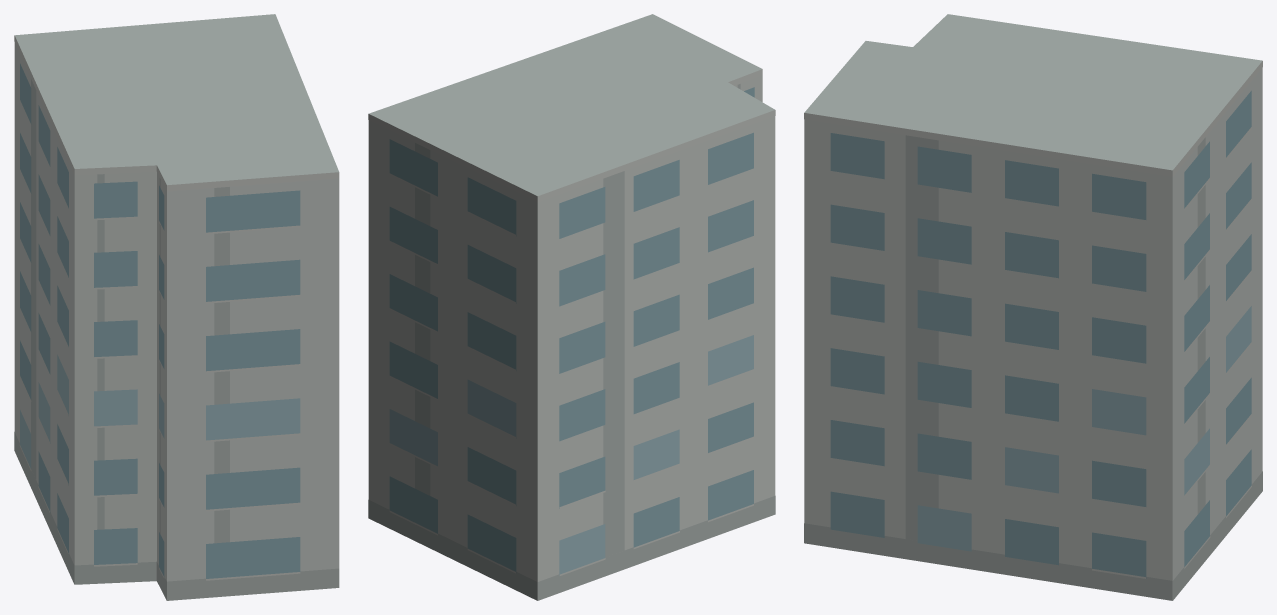
File: survey-upis-32893671.glb
3 views of the same model, side by side, from view 1: azimuth 30°, elevation 25°; view 2: azimuth 150°, elevation 25°; view 3: azimuth 270°, elevation 25° (orthographic). The views are drawn at different scales.
Visible parts, largest first — view 1: survey-upis-32893671.tmp; view 2: survey-upis-32893671.tmp; view 3: survey-upis-32893671.tmp.
Boxes of the visible parts, left/top/right/bottom form: survey-upis-32893671.tmp: left=14, top=14, right=339, bottom=600; survey-upis-32893671.tmp: left=368, top=14, right=775, bottom=600; survey-upis-32893671.tmp: left=804, top=14, right=1262, bottom=600.
Size of the model in its own units: 12.36 by 15.85 by 15.31.
